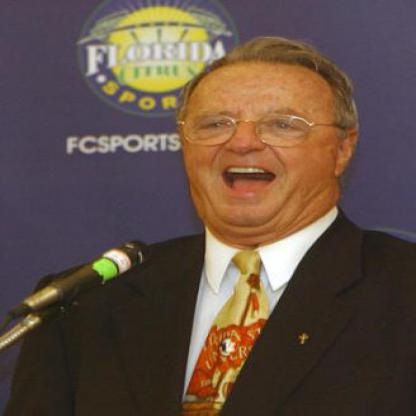face: (178, 53, 339, 233)
